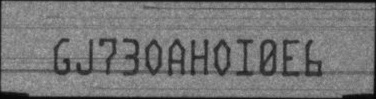0: (259, 38, 276, 76)
3: (121, 38, 141, 76)
6: (305, 38, 323, 77)
7: (98, 37, 117, 76)
A: (168, 37, 186, 76)
E: (282, 37, 301, 77)
G: (52, 36, 70, 75)
H: (189, 36, 209, 76)
I: (235, 37, 252, 76)
J: (75, 38, 94, 75)
O: (144, 37, 163, 76), (213, 39, 232, 76)
